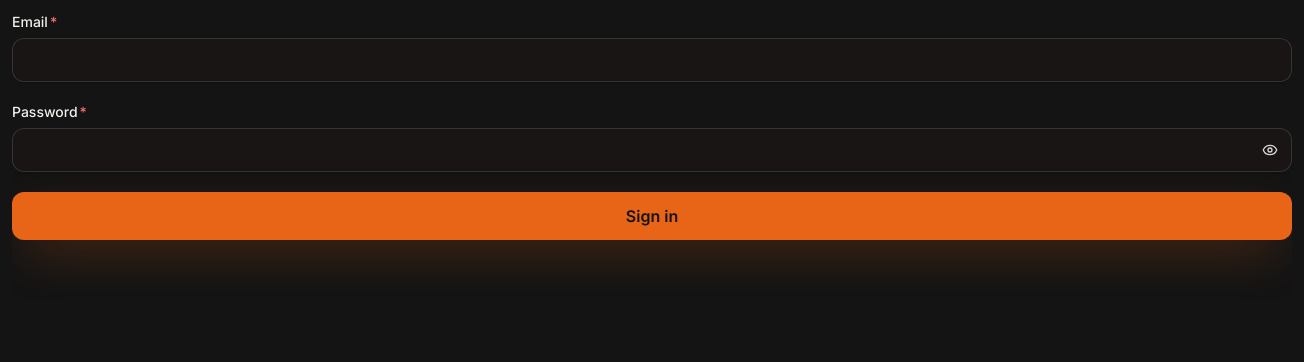
AdminLoginForm › explains rate limiting and unavailability
The image size is (1304, 362).
Type "admin@haulixlogistics.com" into the field labelled "Email*" at {"x": 652, "y": 60}, box [12, 38, 1292, 82]
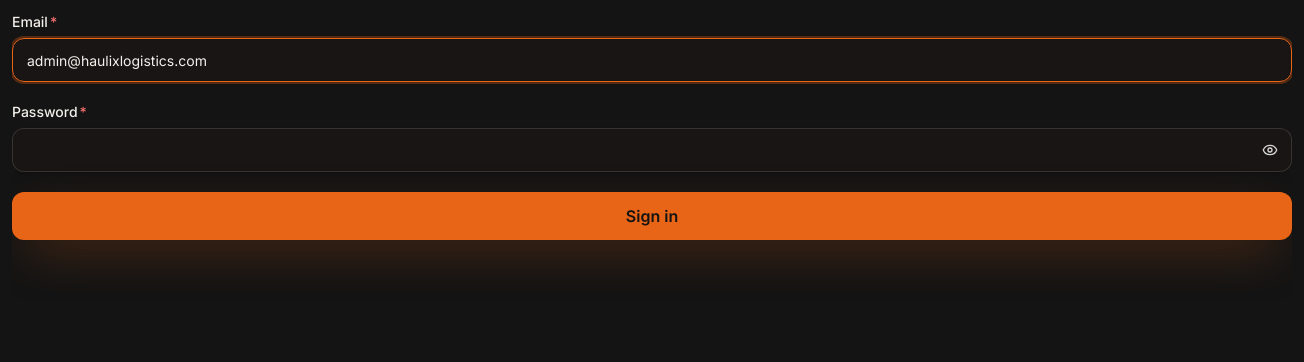
Type "a-password" into the password field labelled "Password*" at {"x": 652, "y": 150}, box [12, 128, 1292, 172]
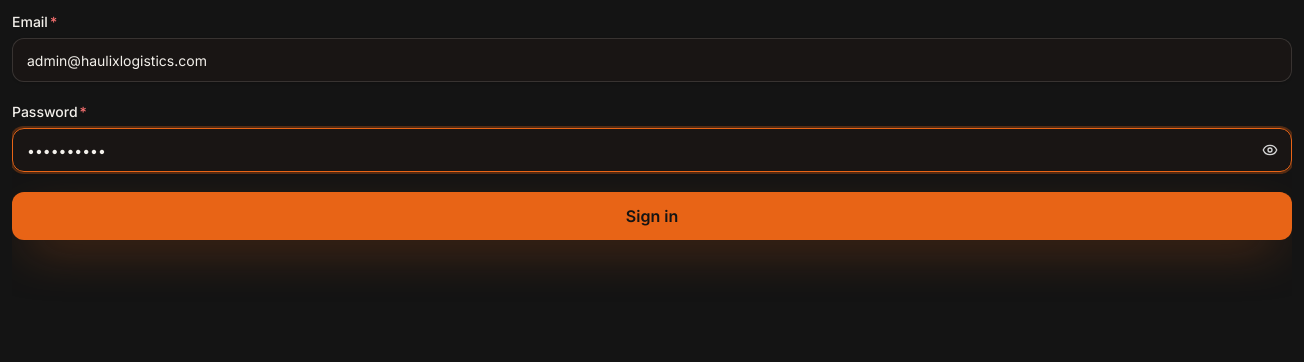
Click the button "Sign in" at {"x": 652, "y": 216}, box [12, 192, 1292, 240]
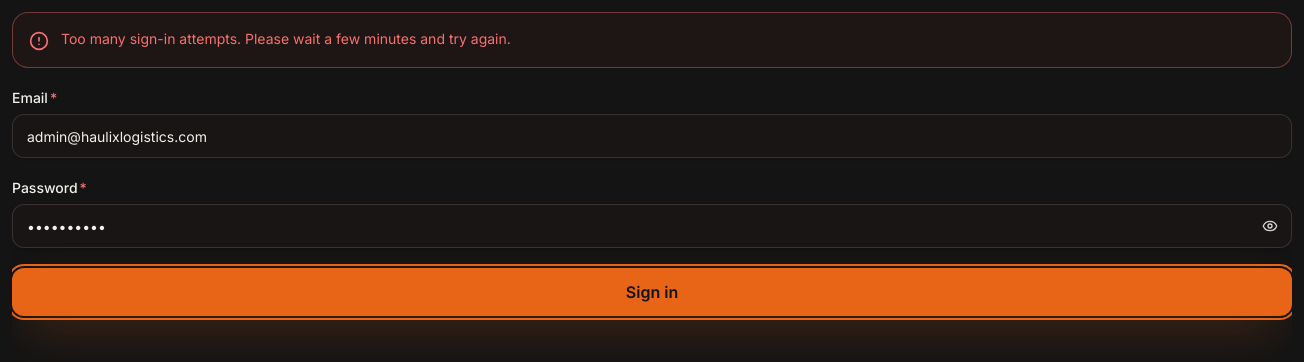
Expected: the message reads "Too many sign-in attempts. Please wait a few minutes and try again.", [61, 30, 511, 47]
Click the button "Sign in" at {"x": 652, "y": 292}, box [12, 268, 1292, 316]
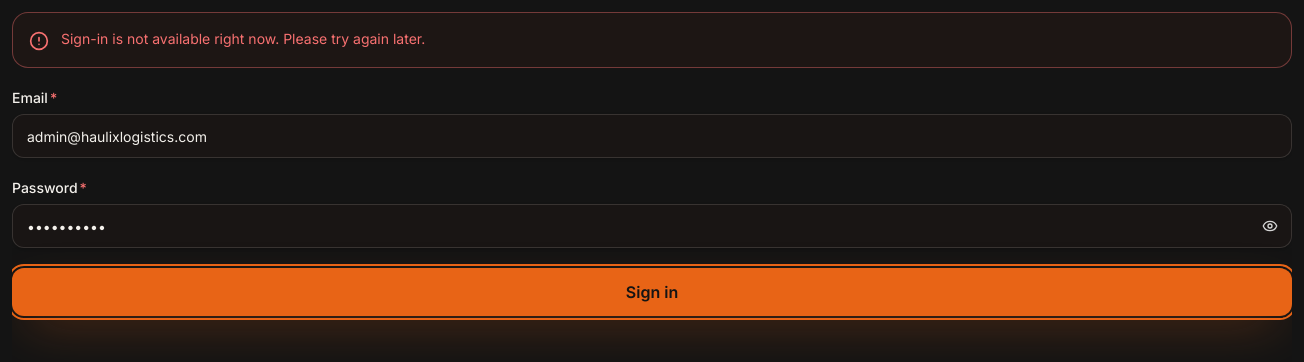
Expected: the message reads "Sign-in is not available right now. Please try again later.", [61, 30, 425, 47]
